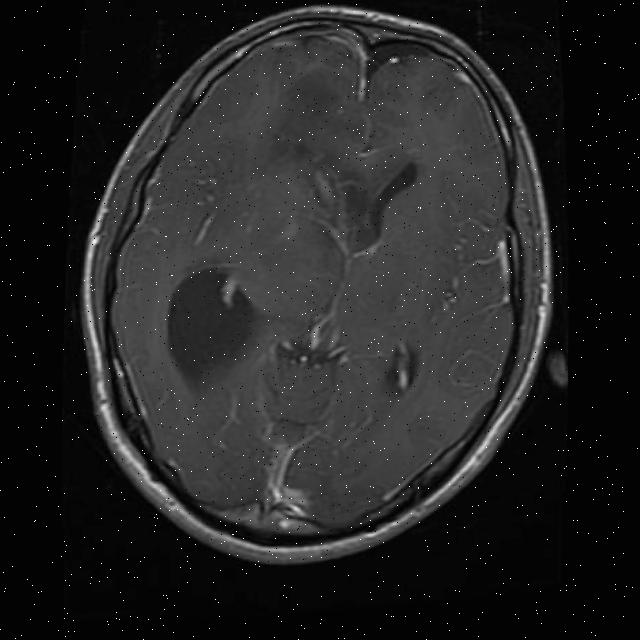Glioma: (292, 139, 379, 260)
